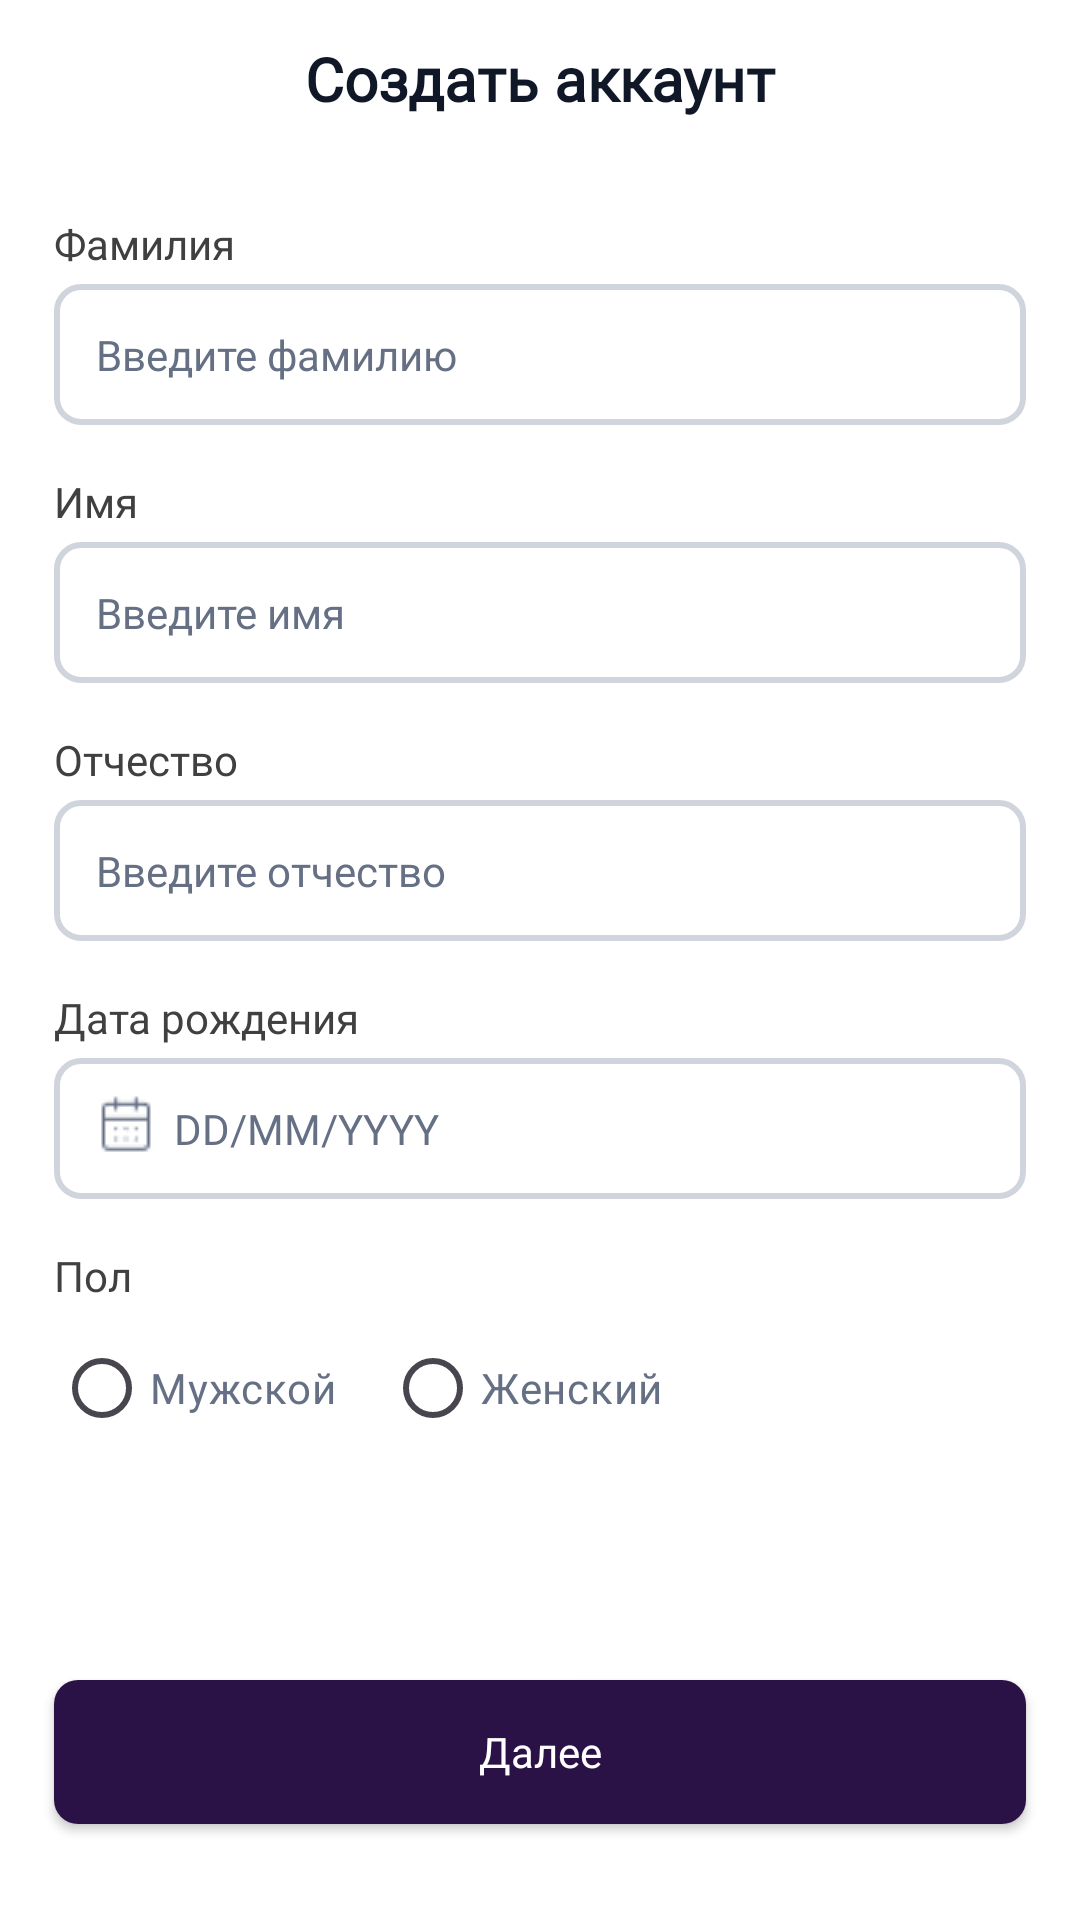

Screen size 1080*1920. Icon name, then its center in pixels as [x,y]:
calendar days: [126,1124]
